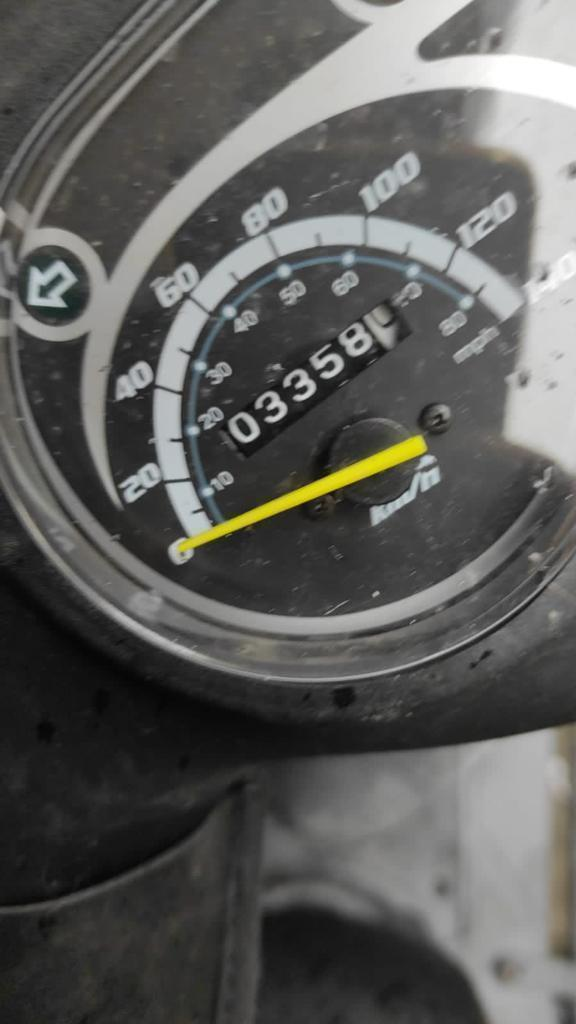0: (226, 411, 261, 446), (366, 299, 398, 330), (241, 307, 259, 326), (216, 361, 237, 376)
3: (251, 392, 287, 423), (280, 370, 317, 400), (205, 369, 224, 388)
4: (231, 318, 250, 336)
5: (306, 342, 344, 381), (276, 289, 298, 309)
8: (335, 318, 374, 360)
odometer: (208, 296, 415, 456)
